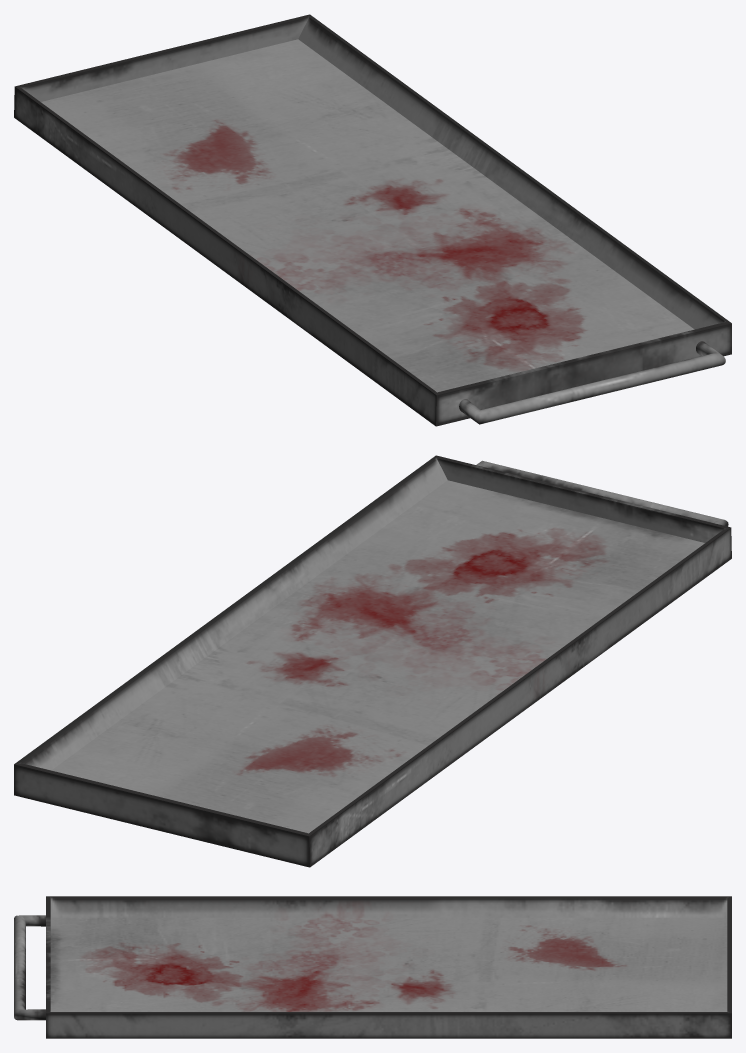
The model's file is CamillaMovement3.fbx.
3 views of the same model, one above another, from view 1: azimuth 30°, elevation 25°; view 2: azimuth 150°, elevation 25°; view 3: azimuth 270°, elevation 25° (orthographic). The views are drawn at different scales.
Parts seen in each view (by area): view 1: Locker_Body_Tray.001; view 2: Locker_Body_Tray.001; view 3: Locker_Body_Tray.001.
Boxes of the visible parts, box(x1,y1,x2,y2) form: Locker_Body_Tray.001: box(14, 14, 731, 426); Locker_Body_Tray.001: box(14, 455, 731, 867); Locker_Body_Tray.001: box(14, 896, 731, 1038).
Bounding box in the file's own units: 111 × 11.23 × 288.
1 material, 1 textured.
